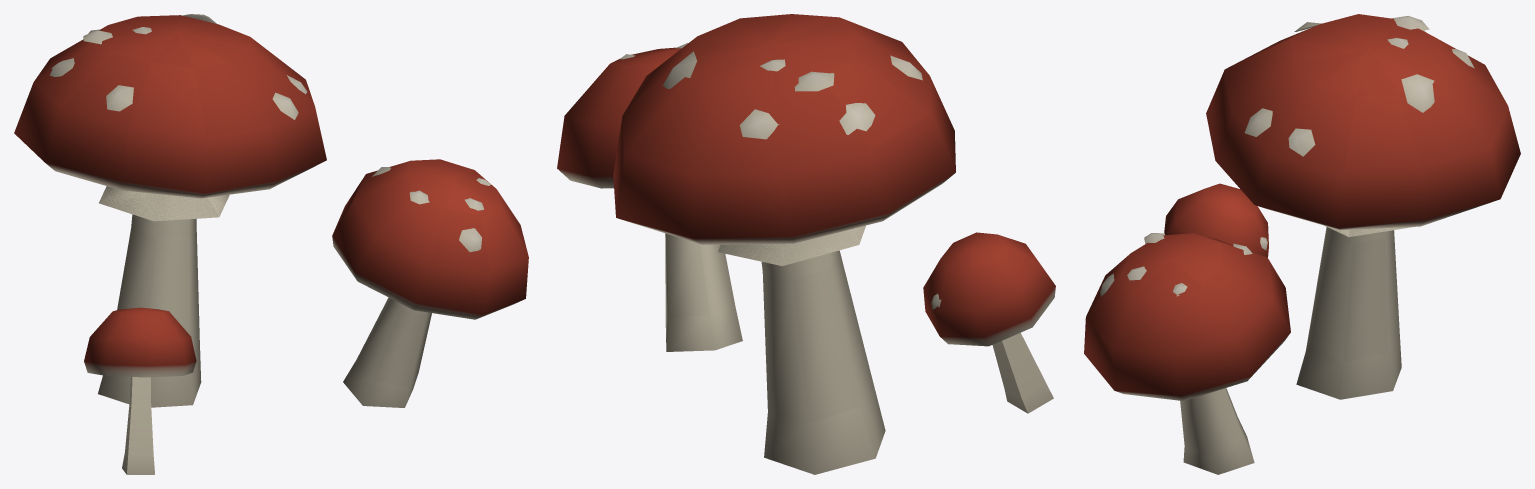
File: mushroom_1.glb
The picture shows the model from 3 angles, left to right: view 1: azimuth 30°, elevation 25°; view 2: azimuth 150°, elevation 25°; view 3: azimuth 270°, elevation 25°; orthographic projection. The views are drawn at different scales.
Visible parts, largest first — view 1: mushroom_1; view 2: mushroom_1; view 3: mushroom_1.
Boxes of the visible parts, box(x1,y1,x2,y2) form: mushroom_1: box(14, 14, 528, 474); mushroom_1: box(557, 14, 1055, 474); mushroom_1: box(1084, 14, 1520, 474).
Size of the model in its own units: 0.2415 by 0.1956 by 0.2223.
